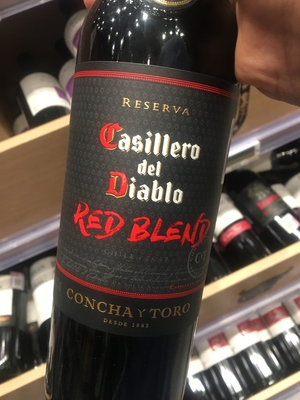casillero del diablo red blend: (44, 15, 244, 400)
